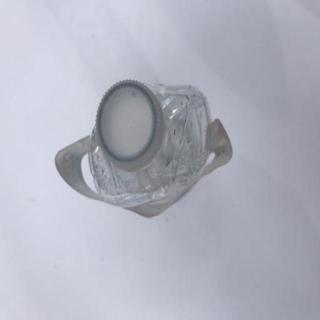Plastic-bottle: (55, 78, 235, 220)
